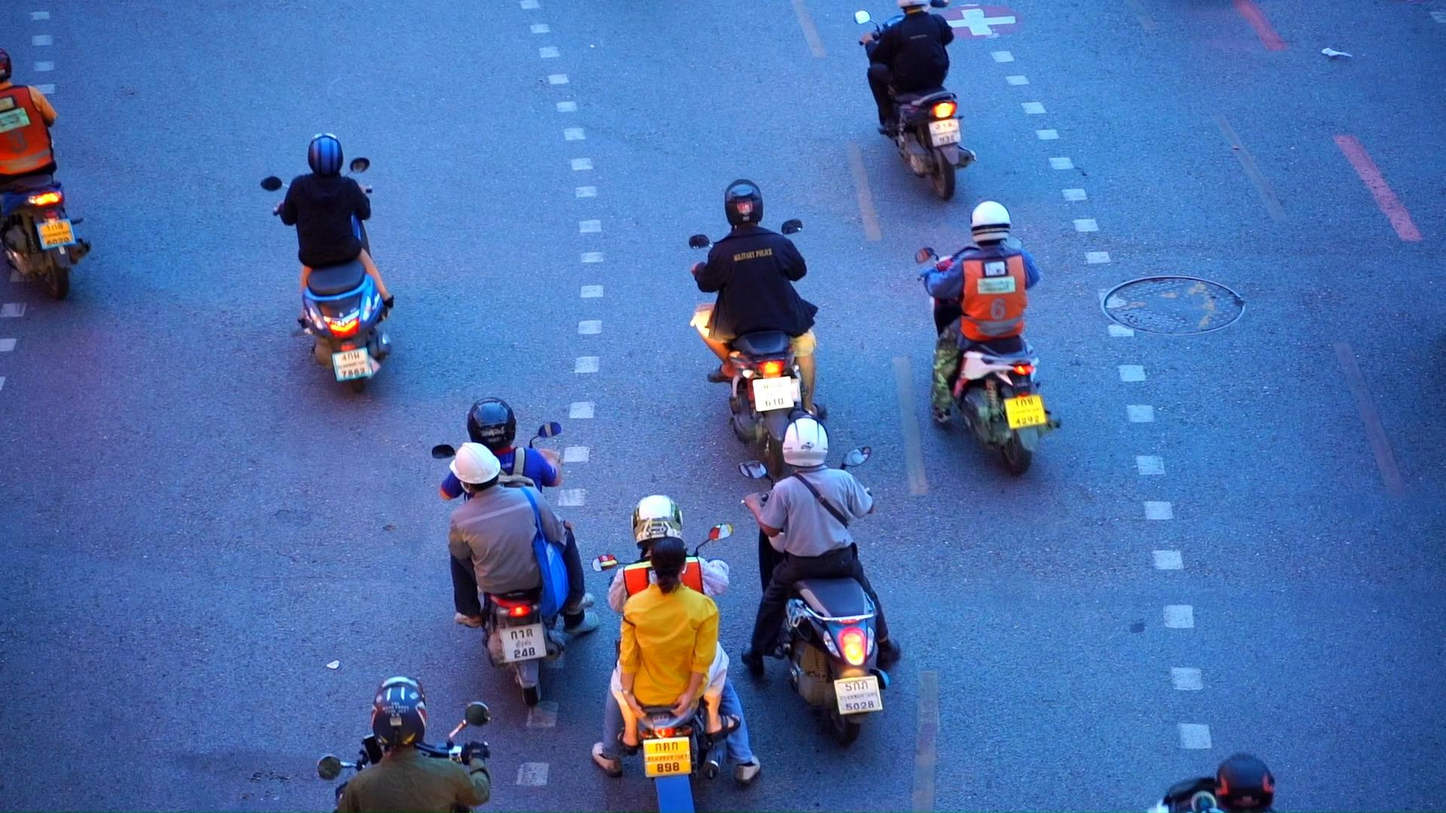driver: (738, 412, 901, 750), (591, 495, 762, 813), (432, 396, 598, 707), (689, 179, 827, 479), (916, 200, 1061, 478), (261, 132, 395, 394), (853, 0, 977, 200), (316, 676, 491, 813), (0, 48, 92, 300), (1145, 753, 1278, 813)
helmet: (371, 677, 428, 753), (1214, 752, 1276, 813), (449, 442, 501, 503), (631, 494, 685, 549), (467, 396, 517, 451), (782, 413, 829, 469), (724, 180, 763, 233), (971, 200, 1010, 246), (308, 132, 343, 177), (897, 0, 928, 14), (0, 49, 12, 84)
no-helmet: (651, 537, 688, 596)
